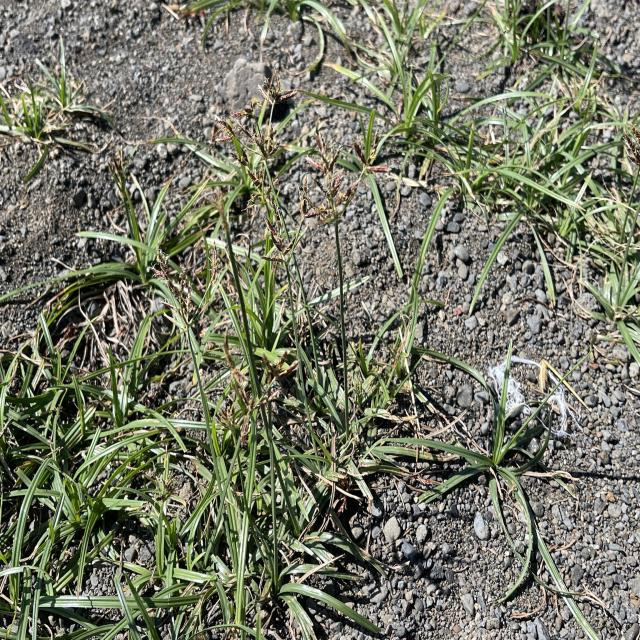cyperus: (206, 70, 310, 248), (211, 330, 301, 445), (300, 127, 385, 236), (148, 234, 202, 327), (101, 143, 132, 186)
